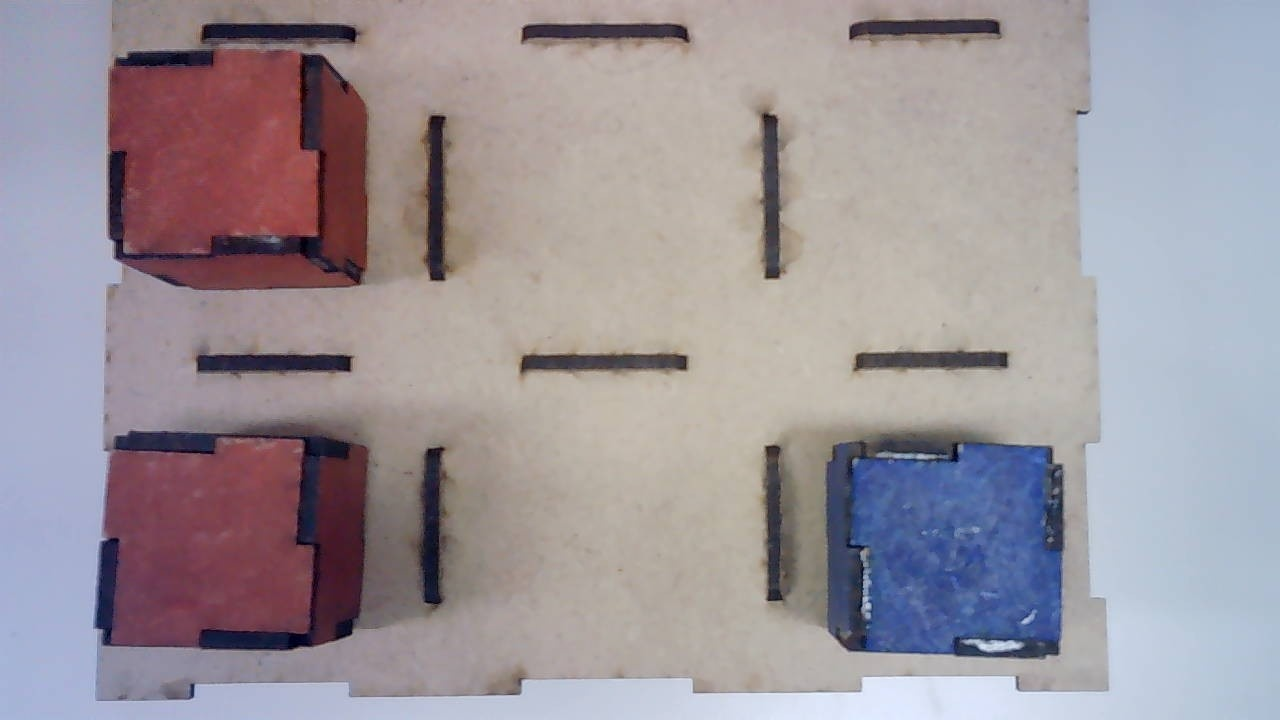blue box: (825, 438, 1062, 662)
red box: (105, 48, 370, 297), (95, 429, 369, 654)
